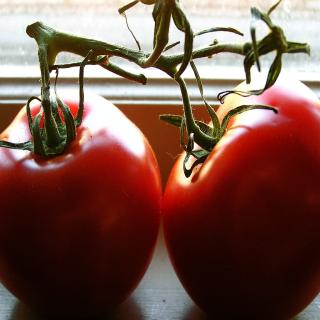tomato: (161, 68, 320, 320), (0, 76, 163, 320)
